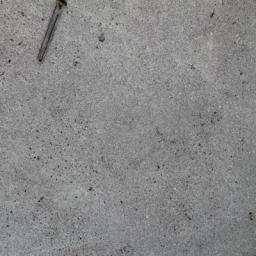FOD: (36, 1, 69, 65)
